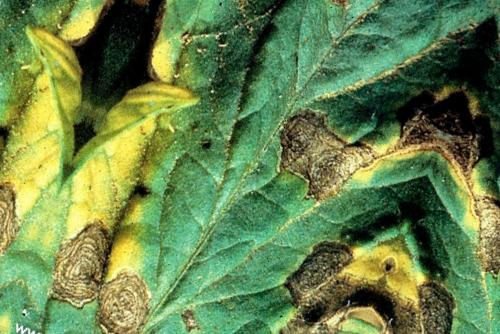Tomato Early blight leaf: (0, 0, 497, 334)
